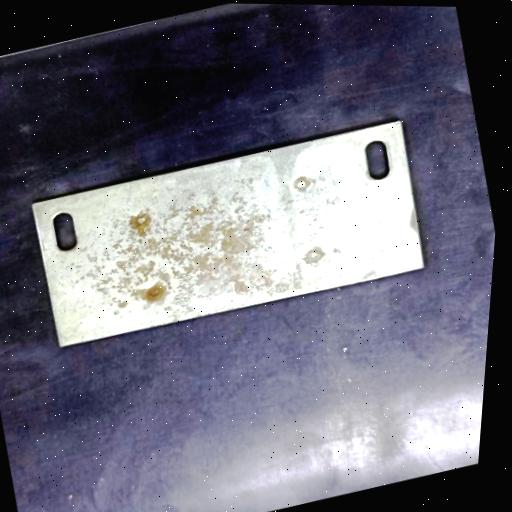corrosion: (120, 201, 169, 241), (134, 272, 180, 311)
